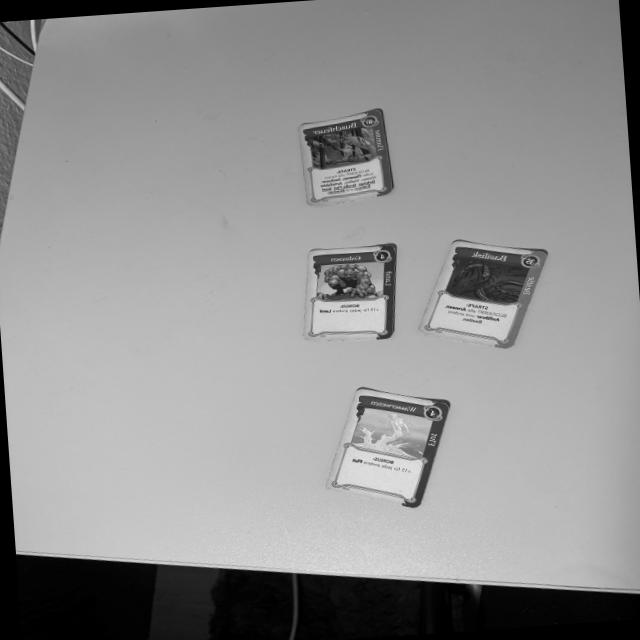Basilisk: (418, 238, 549, 353)
Earth Elemental: (299, 239, 399, 345)
Water Elemental: (320, 383, 456, 511)
Wildfire: (295, 103, 398, 207)
